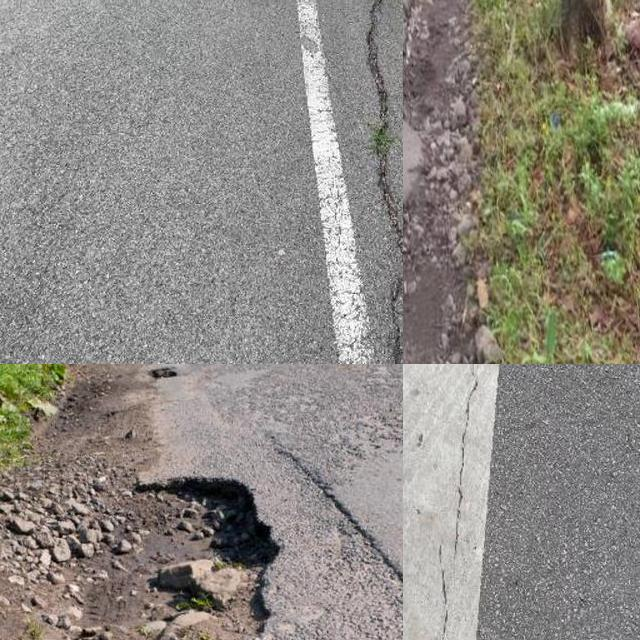Memanjang: (335, 0, 403, 364), (422, 364, 490, 640)
Pinggir: (50, 457, 315, 640), (403, 0, 495, 364)
